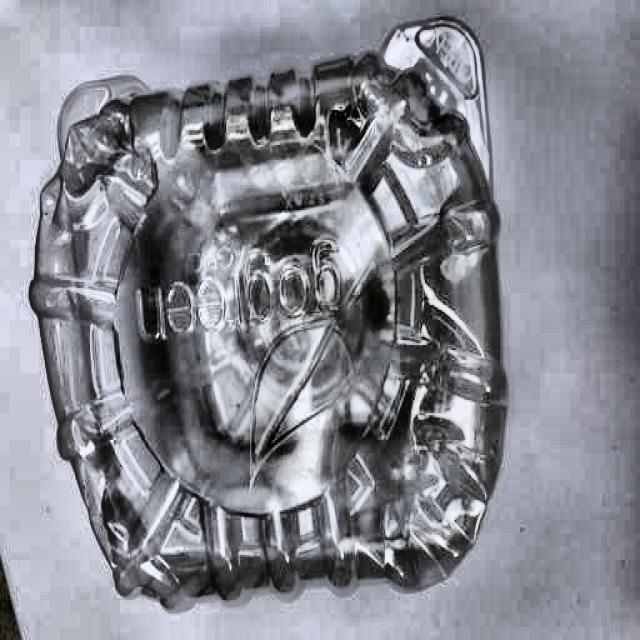plastic: (48, 14, 499, 594)
